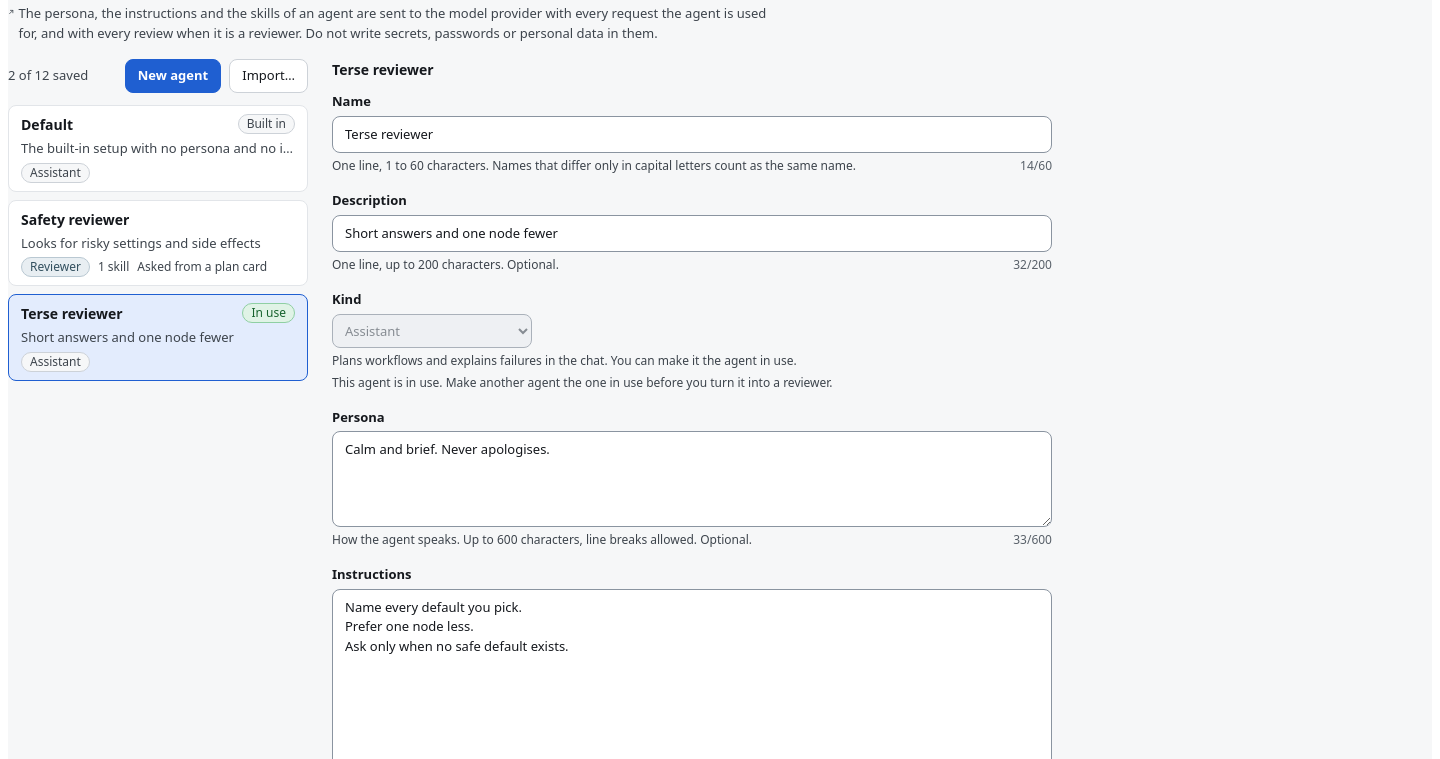
Test case: the kind of an agent in the editor › shows a reviewer without the Use button, and says where it is used
Expected: the list named "Agent list" is shown, [8, 105, 308, 380]
Click the button "Safety reviewer": (158, 243) [8, 200, 308, 286]
(page scrolled)
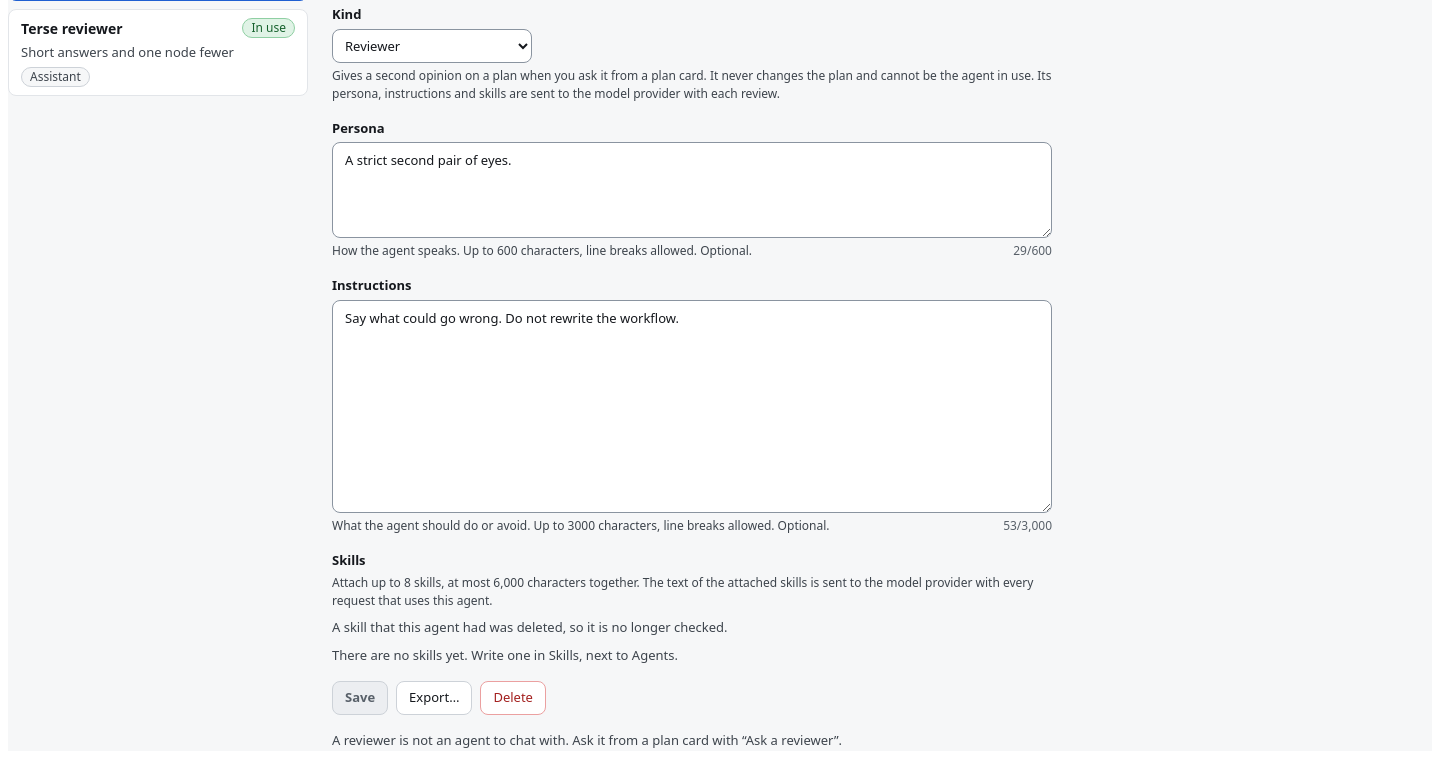
Expected: the text "A reviewer is not an agent to chat with. Ask it from a plan card with “Ask a reviewer”." is shown, [332, 731, 842, 749]
